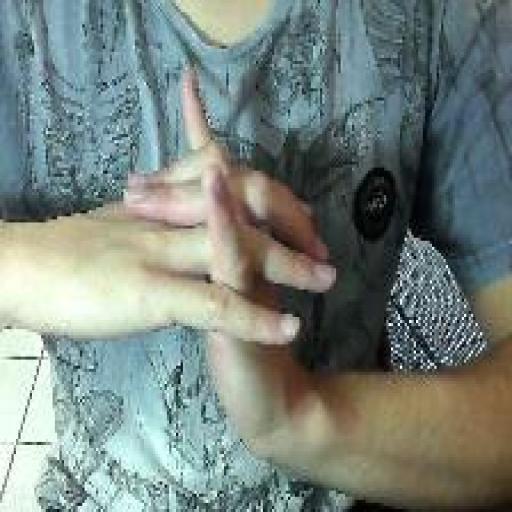Ushi -ox-: (120, 64, 339, 469)
